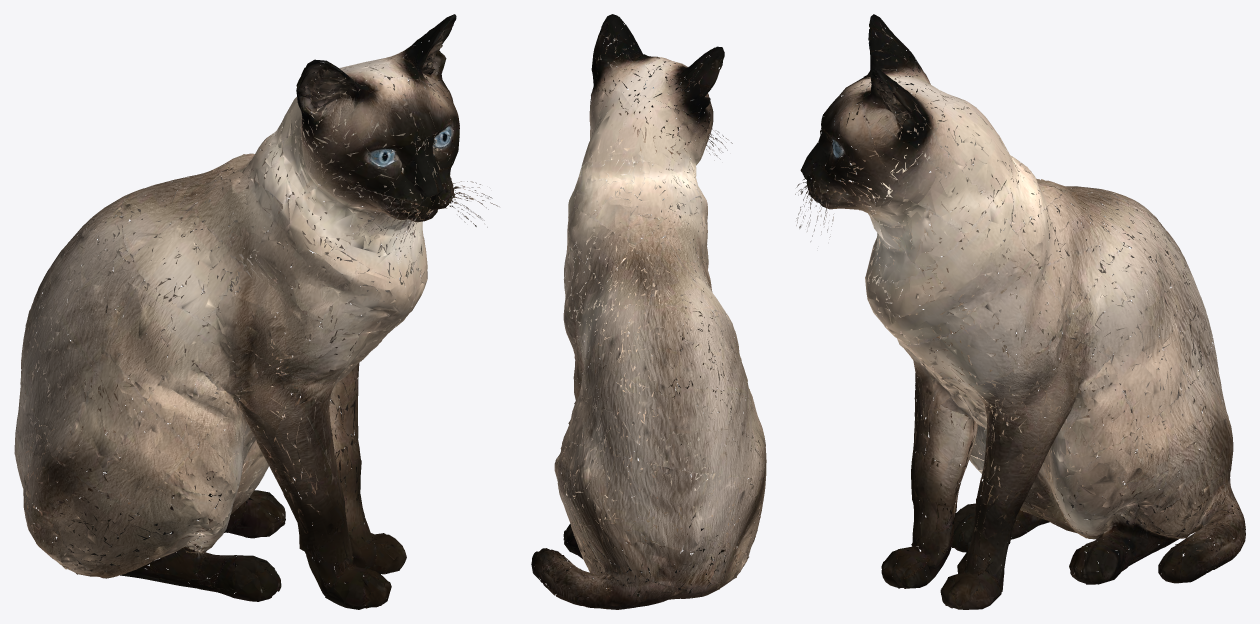
Rendered from cat.glb.
3 views of the same model, side by side, from view 1: azimuth 30°, elevation 25°; view 2: azimuth 150°, elevation 25°; view 3: azimuth 270°, elevation 25° (orthographic). The views are drawn at different scales.
Visible parts, largest first — view 1: cat; view 2: cat; view 3: cat.
Part boxes in pixels (box(x1,y1,x2,y2)): cat: box(14, 14, 499, 609); cat: box(531, 14, 766, 609); cat: box(795, 14, 1245, 609).
Size of the model in its own units: 0.1861 by 0.3308 by 0.2483.
Materials: 1 (1 with a texture image).
